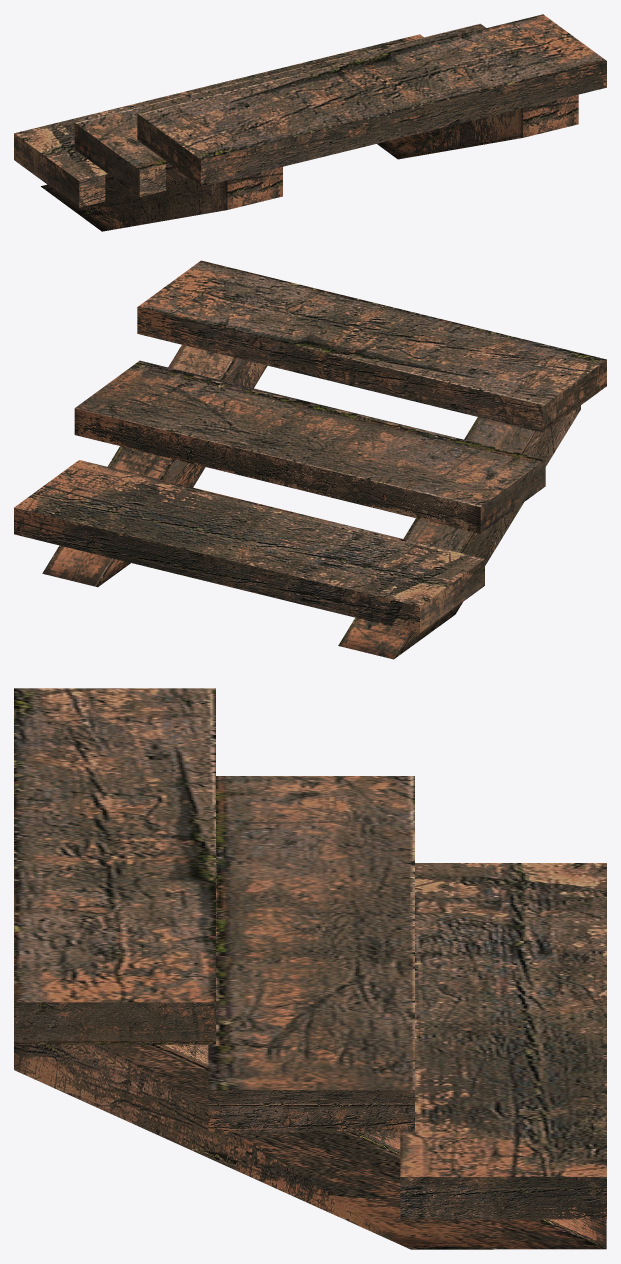
The model's file is factory_stairs_05.DAE.
The picture shows the model from 3 angles, top to bottom: view 1: azimuth 30°, elevation 25°; view 2: azimuth 150°, elevation 25°; view 3: azimuth 270°, elevation 25°; orthographic projection. The views are drawn at different scales.
Parts seen in each view (by area): view 1: Box117; view 2: Box117; view 3: Box117.
Part boxes in pixels (box(x1,y1,x2,y2)): Box117: box(14, 14, 606, 231); Box117: box(14, 260, 606, 659); Box117: box(14, 688, 606, 1249).
Bounding box in the file's own units: 1.88 × 0.7513 × 1.5.
